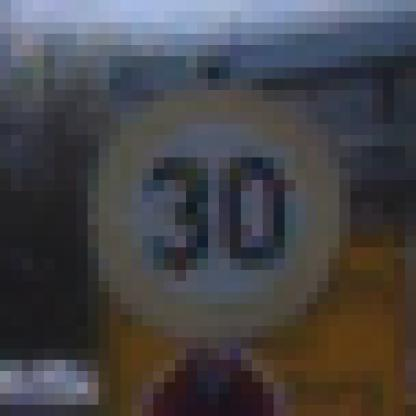Speed Limit 30: (92, 92, 342, 338)
